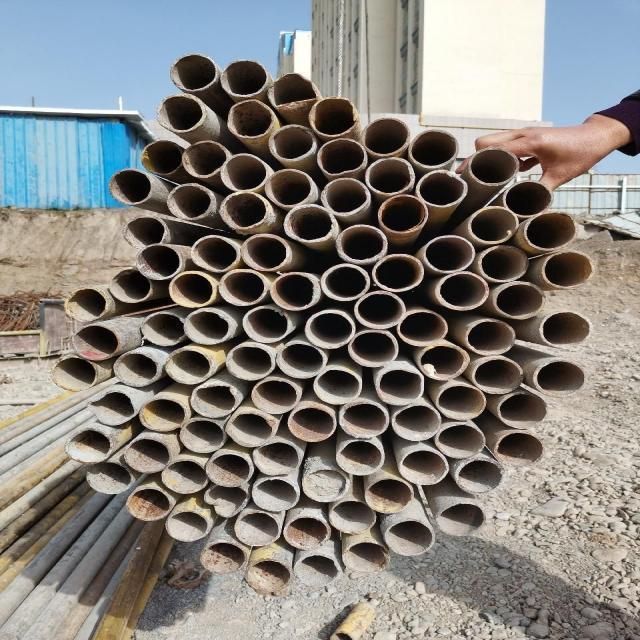pipe: (416, 232, 476, 274), (493, 389, 549, 431), (433, 270, 489, 311), (521, 212, 581, 250), (153, 94, 209, 134), (409, 129, 462, 171), (317, 178, 374, 217), (413, 168, 468, 208), (319, 262, 374, 302), (476, 241, 528, 283), (371, 366, 423, 408), (240, 232, 293, 273), (540, 250, 595, 289), (308, 96, 360, 137), (304, 310, 356, 351), (162, 347, 214, 388), (248, 439, 304, 477), (268, 71, 321, 111), (376, 192, 429, 232), (268, 271, 321, 311), (363, 475, 416, 515), (81, 390, 138, 427), (468, 356, 522, 395), (436, 381, 488, 421), (531, 360, 587, 397), (465, 148, 518, 187), (345, 330, 398, 369), (492, 431, 545, 470), (339, 537, 392, 576), (453, 454, 501, 497), (489, 283, 546, 319), (539, 310, 593, 348), (274, 343, 328, 381), (192, 232, 242, 273), (313, 366, 363, 407), (367, 156, 419, 195), (395, 308, 447, 347), (466, 318, 518, 357), (241, 557, 293, 596), (376, 252, 424, 294), (334, 222, 387, 260), (466, 206, 519, 244), (240, 306, 293, 344), (62, 427, 115, 465), (435, 501, 488, 539), (169, 54, 219, 94), (180, 138, 230, 178), (339, 399, 389, 439), (224, 101, 276, 139), (48, 357, 100, 395), (200, 451, 252, 489), (219, 59, 269, 98), (264, 170, 314, 209), (392, 403, 442, 442), (226, 411, 277, 449), (499, 180, 551, 217), (400, 450, 452, 487), (140, 310, 188, 350), (220, 153, 269, 192), (287, 403, 336, 442), (382, 519, 435, 555), (362, 118, 412, 156), (233, 511, 283, 549), (181, 308, 232, 345), (187, 383, 239, 419), (160, 458, 212, 494), (280, 515, 332, 551), (415, 346, 468, 381), (111, 352, 164, 387), (134, 245, 184, 282), (71, 326, 121, 363), (223, 344, 273, 381), (251, 378, 302, 414), (179, 416, 226, 455), (167, 271, 215, 309), (282, 207, 334, 242), (164, 509, 216, 544), (289, 553, 341, 588), (269, 124, 318, 161), (219, 192, 268, 229), (106, 268, 155, 305), (163, 184, 213, 220), (335, 439, 385, 475), (219, 268, 266, 306), (439, 422, 486, 460), (124, 485, 171, 523), (136, 397, 187, 432), (82, 462, 132, 497), (327, 500, 377, 535), (125, 437, 171, 475), (196, 539, 247, 573), (141, 139, 187, 176), (62, 285, 108, 322), (107, 169, 157, 203), (253, 477, 300, 513), (304, 468, 351, 504), (201, 483, 247, 518), (123, 216, 171, 249)
